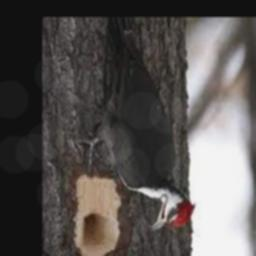Woodpecker: (79, 18, 195, 232)
